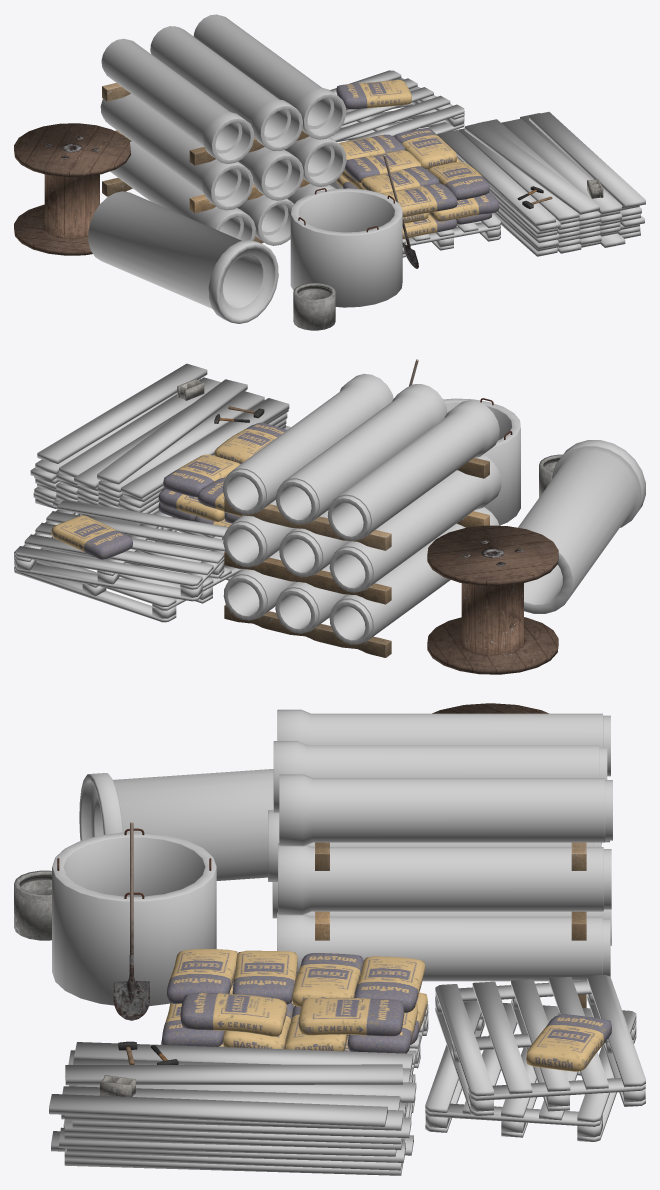
File: Construction Props.fbx
The picture shows the model from 3 angles, top to bottom: view 1: azimuth 30°, elevation 25°; view 2: azimuth 150°, elevation 25°; view 3: azimuth 270°, elevation 25°; orthographic projection. The views are drawn at different scales.
Parts seen in each view (by area): view 1: pipe_stack_planks, Planks, Concrete_Pipe2, Pallet1.002, Concrete_Pipe1, Cylinder.001, Pallet2, Small_Con_Cyl, Cement.012, Pallet1, shovel; view 2: pipe_stack_planks, Planks, Cylinder.001, Pallet2, Concrete_Pipe2, Pallet1.002, Pallet1, Concrete_Pipe1, Cement.012, Small_Con_Cyl; view 3: pipe_stack_planks, Planks, Pallet1.002, Concrete_Pipe1, Pallet2, Concrete_Pipe2, Pallet1, Cement.012, Small_Con_Cyl, shovel, Cylinder.001, Concrete_Block.
Part boxes in pixels (x1=…): pipe_stack_planks: x1=100, y1=14, x2=346, y2=245; Planks: x1=437, y1=112, x2=645, y2=256; Concrete_Pipe2: x1=88, y1=191, x2=278, y2=323; Pallet1.002: x1=330, y1=128, x2=500, y2=257; Concrete_Pipe1: x1=290, y1=188, x2=402, y2=307; Cylinder.001: x1=14, y1=123, x2=130, y2=255; Pallet2: x1=330, y1=70, x2=464, y2=141; Small_Con_Cyl: x1=293, y1=283, x2=335, y2=330; Cement.012: x1=336, y1=79, x2=411, y2=109; Pallet1: x1=337, y1=102, x2=458, y2=141; shovel: x1=383, y1=155, x2=418, y2=268; pipe_stack_planks: x1=223, y1=374, x2=501, y2=657; Planks: x1=30, y1=363, x2=290, y2=515; Cylinder.001: x1=427, y1=525, x2=558, y2=674; Pallet2: x1=15, y1=500, x2=228, y2=601; Concrete_Pipe2: x1=518, y1=440, x2=645, y2=613; Pallet1.002: x1=153, y1=422, x2=286, y2=539; Pallet1: x1=14, y1=514, x2=242, y2=622; Concrete_Pipe1: x1=443, y1=398, x2=520, y2=525; Cement.012: x1=51, y1=515, x2=132, y2=559; Small_Con_Cyl: x1=539, y1=454, x2=562, y2=497; pipe_stack_planks: x1=268, y1=709, x2=612, y2=1007; Planks: x1=49, y1=1042, x2=416, y2=1175; Pallet1.002: x1=160, y1=949, x2=428, y2=1071; Concrete_Pipe1: x1=52, y1=828, x2=216, y2=1006; Pallet2: x1=435, y1=974, x2=645, y2=1115; Concrete_Pipe2: x1=79, y1=769, x2=273, y2=880; Pallet1: x1=425, y1=1001, x2=636, y2=1141; Cement.012: x1=526, y1=1014, x2=611, y2=1071; Small_Con_Cyl: x1=14, y1=870, x2=51, y2=940; shovel: x1=113, y1=822, x2=149, y2=1020; Cylinder.001: x1=432, y1=703, x2=548, y2=713; Concrete_Block: x1=100, y1=1075, x2=135, y2=1096.
Size of the model in its own units: 1526 by 438 by 1159.
